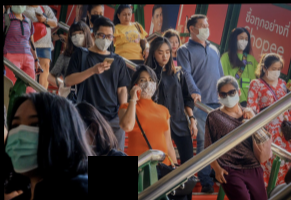with_mask: (5, 112, 41, 174), (136, 75, 158, 99), (219, 87, 241, 109), (94, 30, 114, 53), (194, 21, 211, 42), (265, 65, 283, 82), (89, 9, 106, 25), (70, 30, 86, 47), (236, 34, 250, 52), (10, 5, 27, 15)
without_mask: (155, 47, 172, 65), (119, 10, 133, 25), (169, 38, 180, 53)
